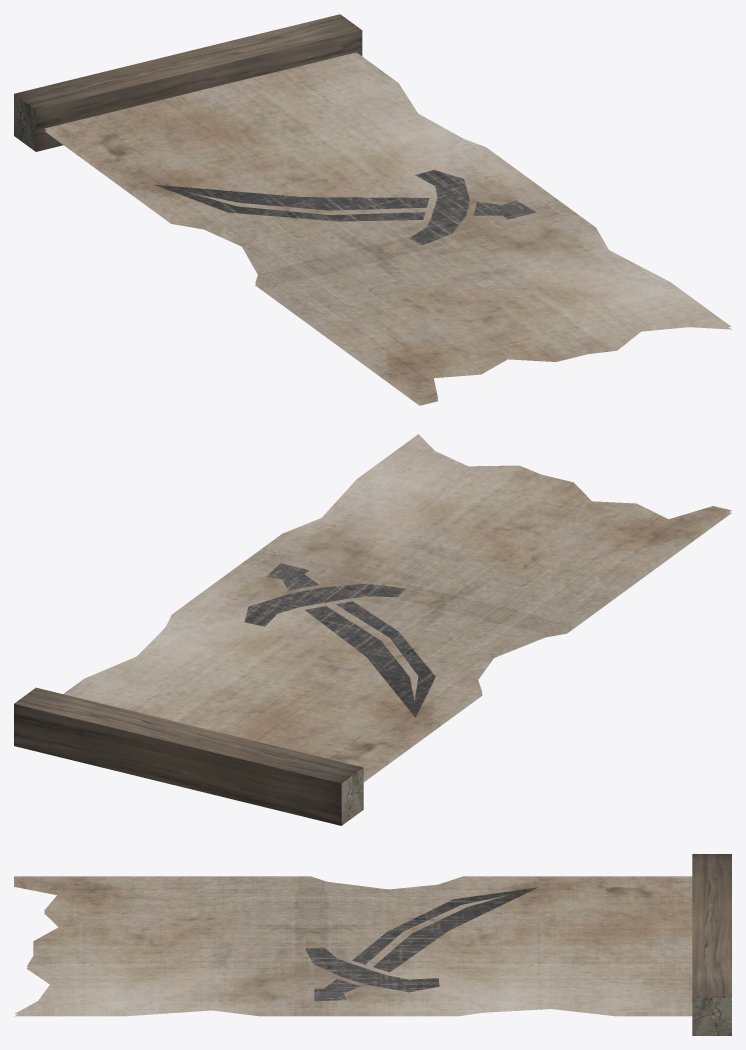
File: Pirate_Banner_Sword_C.fbx
The picture shows the model from 3 angles, top to bottom: view 1: azimuth 30°, elevation 25°; view 2: azimuth 150°, elevation 25°; view 3: azimuth 270°, elevation 25°; orthographic projection. The views are drawn at different scales.
Visible parts, largest first — view 1: Pirate_Banner_Sword_C; view 2: Pirate_Banner_Sword_C; view 3: Pirate_Banner_Sword_C.
Part boxes in pixels (left/top/right/bottom): Pirate_Banner_Sword_C: left=14, top=14, right=731, bottom=405; Pirate_Banner_Sword_C: left=14, top=434, right=731, bottom=825; Pirate_Banner_Sword_C: left=14, top=854, right=731, bottom=1035.
Size of the model in its own units: 1.2 by 0.1485 by 2.54.
